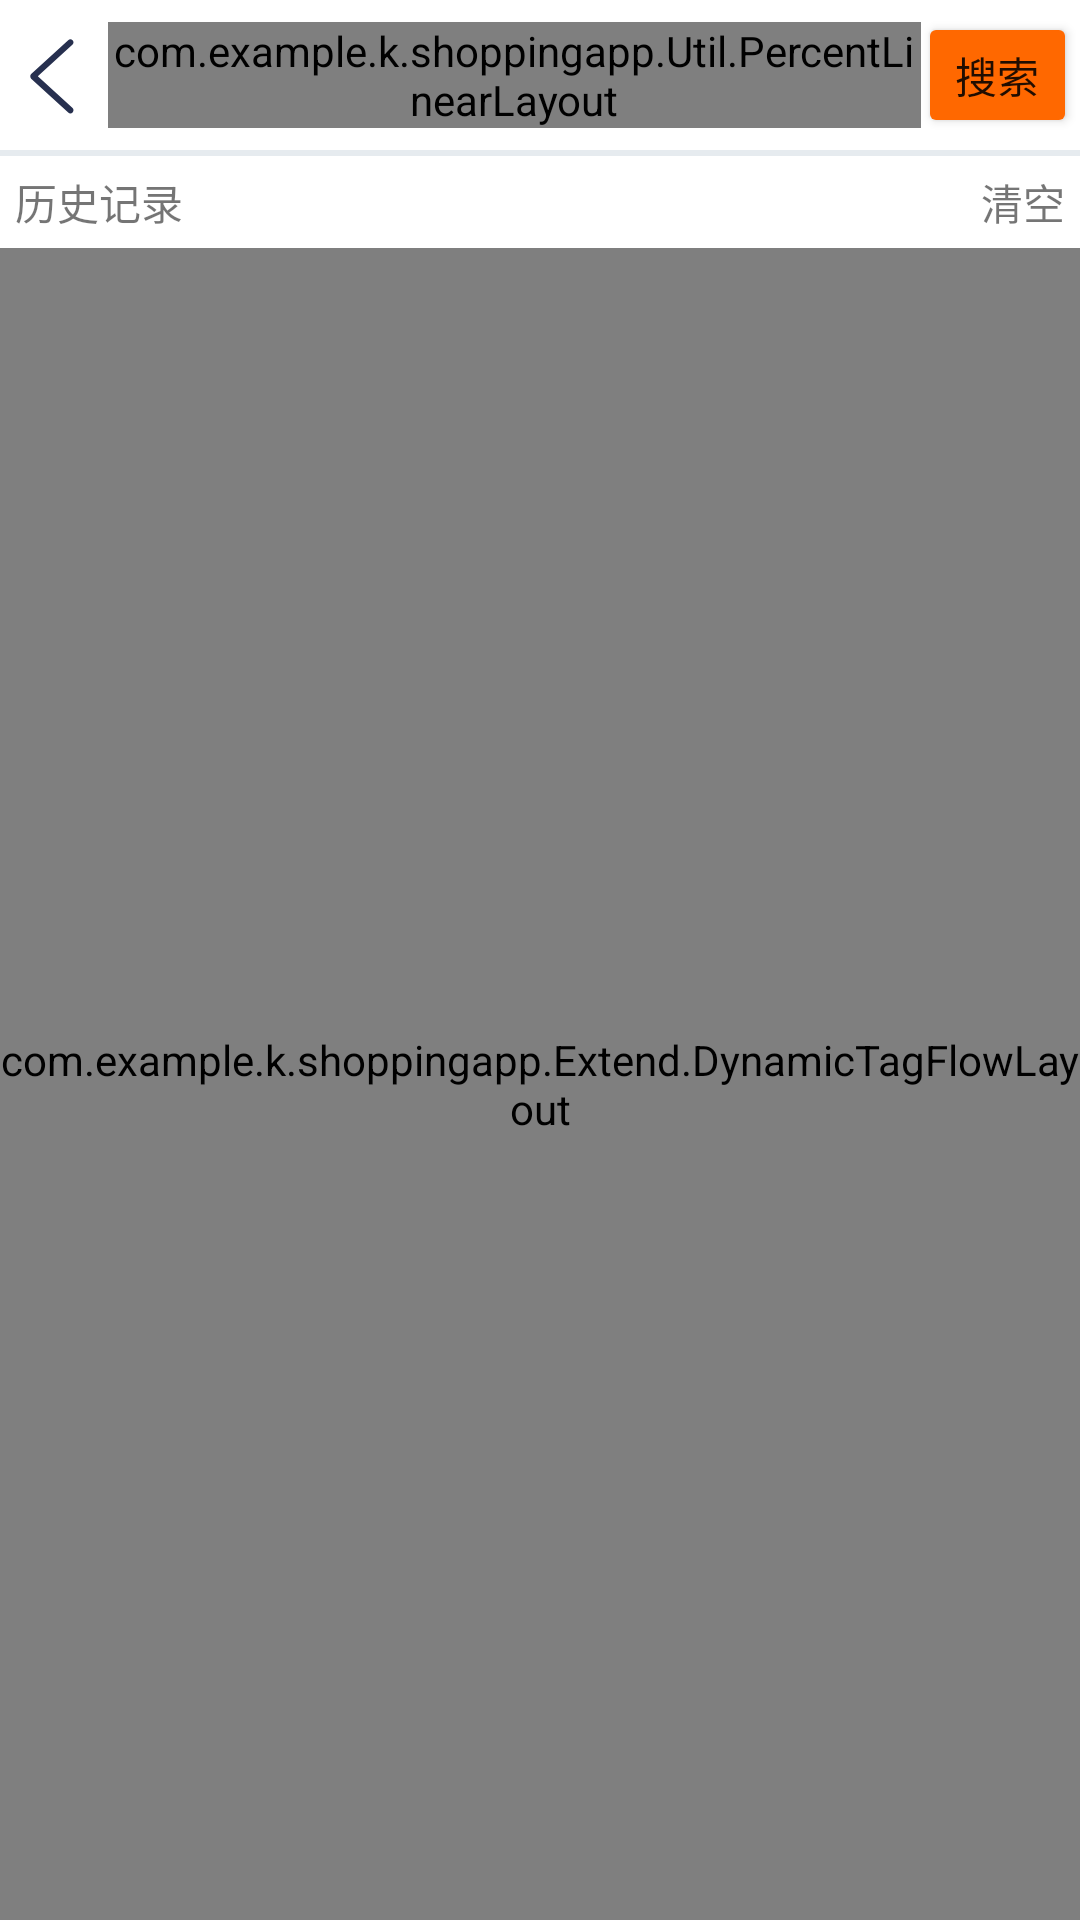

Icons on this 1080 × 1920 Android screen, each with the point to tap as (x=x, y=y):
search layout back pic: (x=52, y=76)
